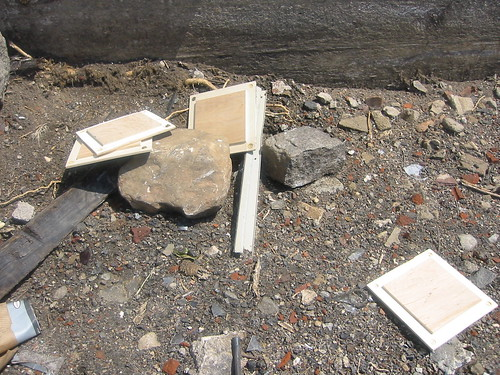rocks: (114, 97, 373, 269)
trash: (29, 57, 473, 374)
